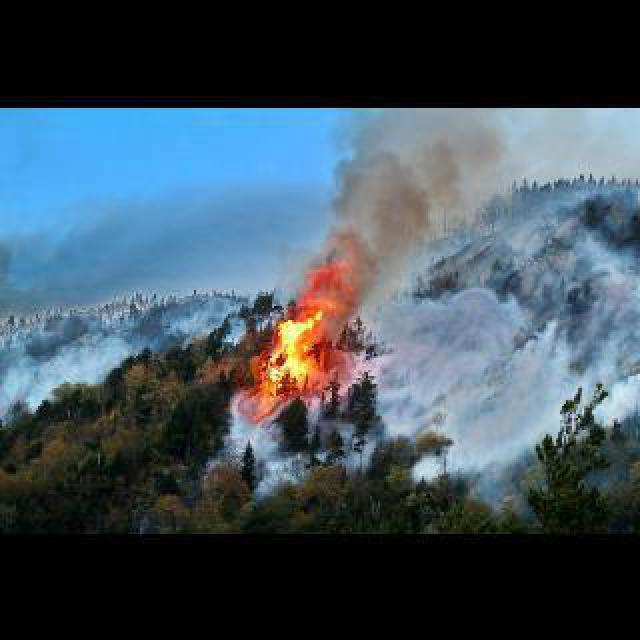fire: (264, 306, 314, 382)
smoke: (322, 117, 503, 300)
